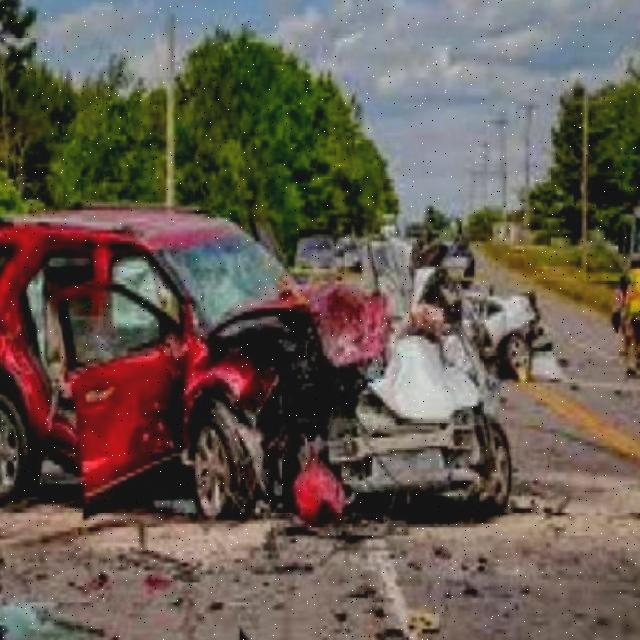accident: (0, 186, 560, 525)
